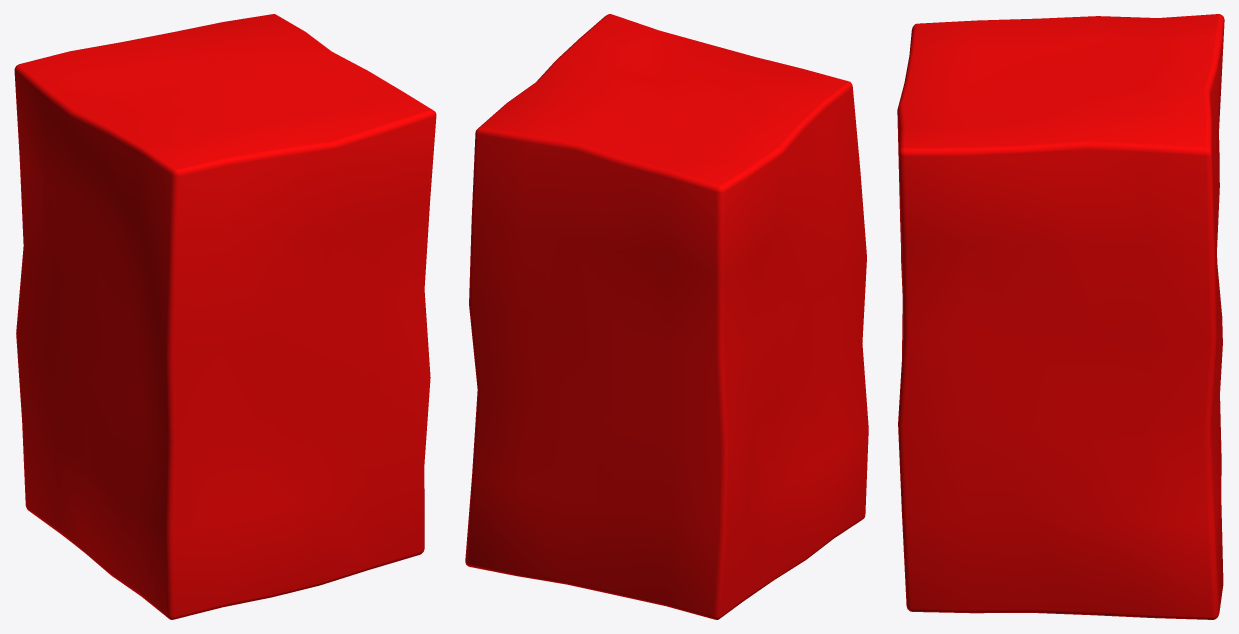
The model's file is Jello Cube.FBX.
The picture shows the model from 3 angles, left to right: view 1: azimuth 30°, elevation 25°; view 2: azimuth 150°, elevation 25°; view 3: azimuth 270°, elevation 25°; orthographic projection. The views are drawn at different scales.
Parts seen in each view (by area): view 1: Game Spece; view 2: Game Spece; view 3: Game Spece.
Part boxes in pixels (x1=…): Game Spece: x1=14, y1=14, x2=436, y2=619; Game Spece: x1=465, y1=14, x2=868, y2=619; Game Spece: x1=897, y1=14, x2=1224, y2=619.
Size of the model in its own units: 106 by 168 by 105.
